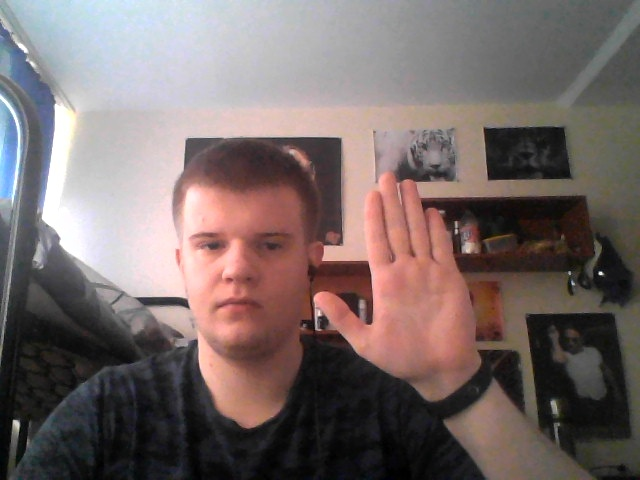hello: (309, 168, 482, 381)
